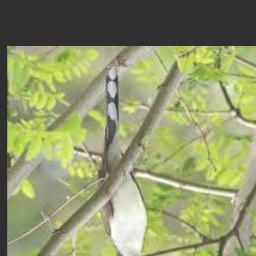Cuckoo: (98, 66, 150, 256)
